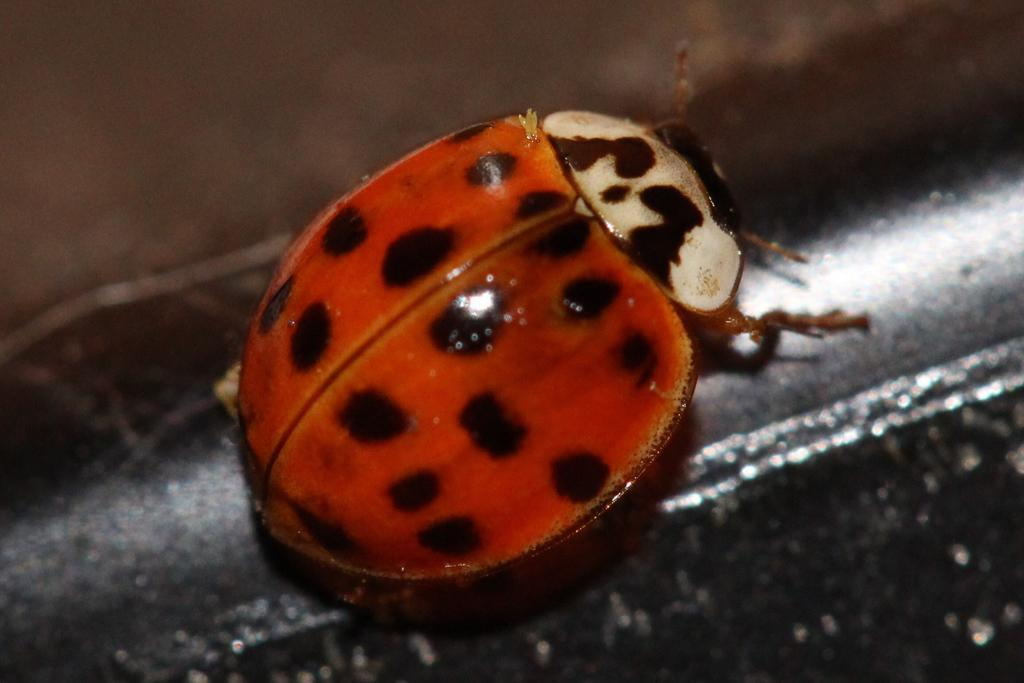ladybug: (219, 35, 879, 591)
